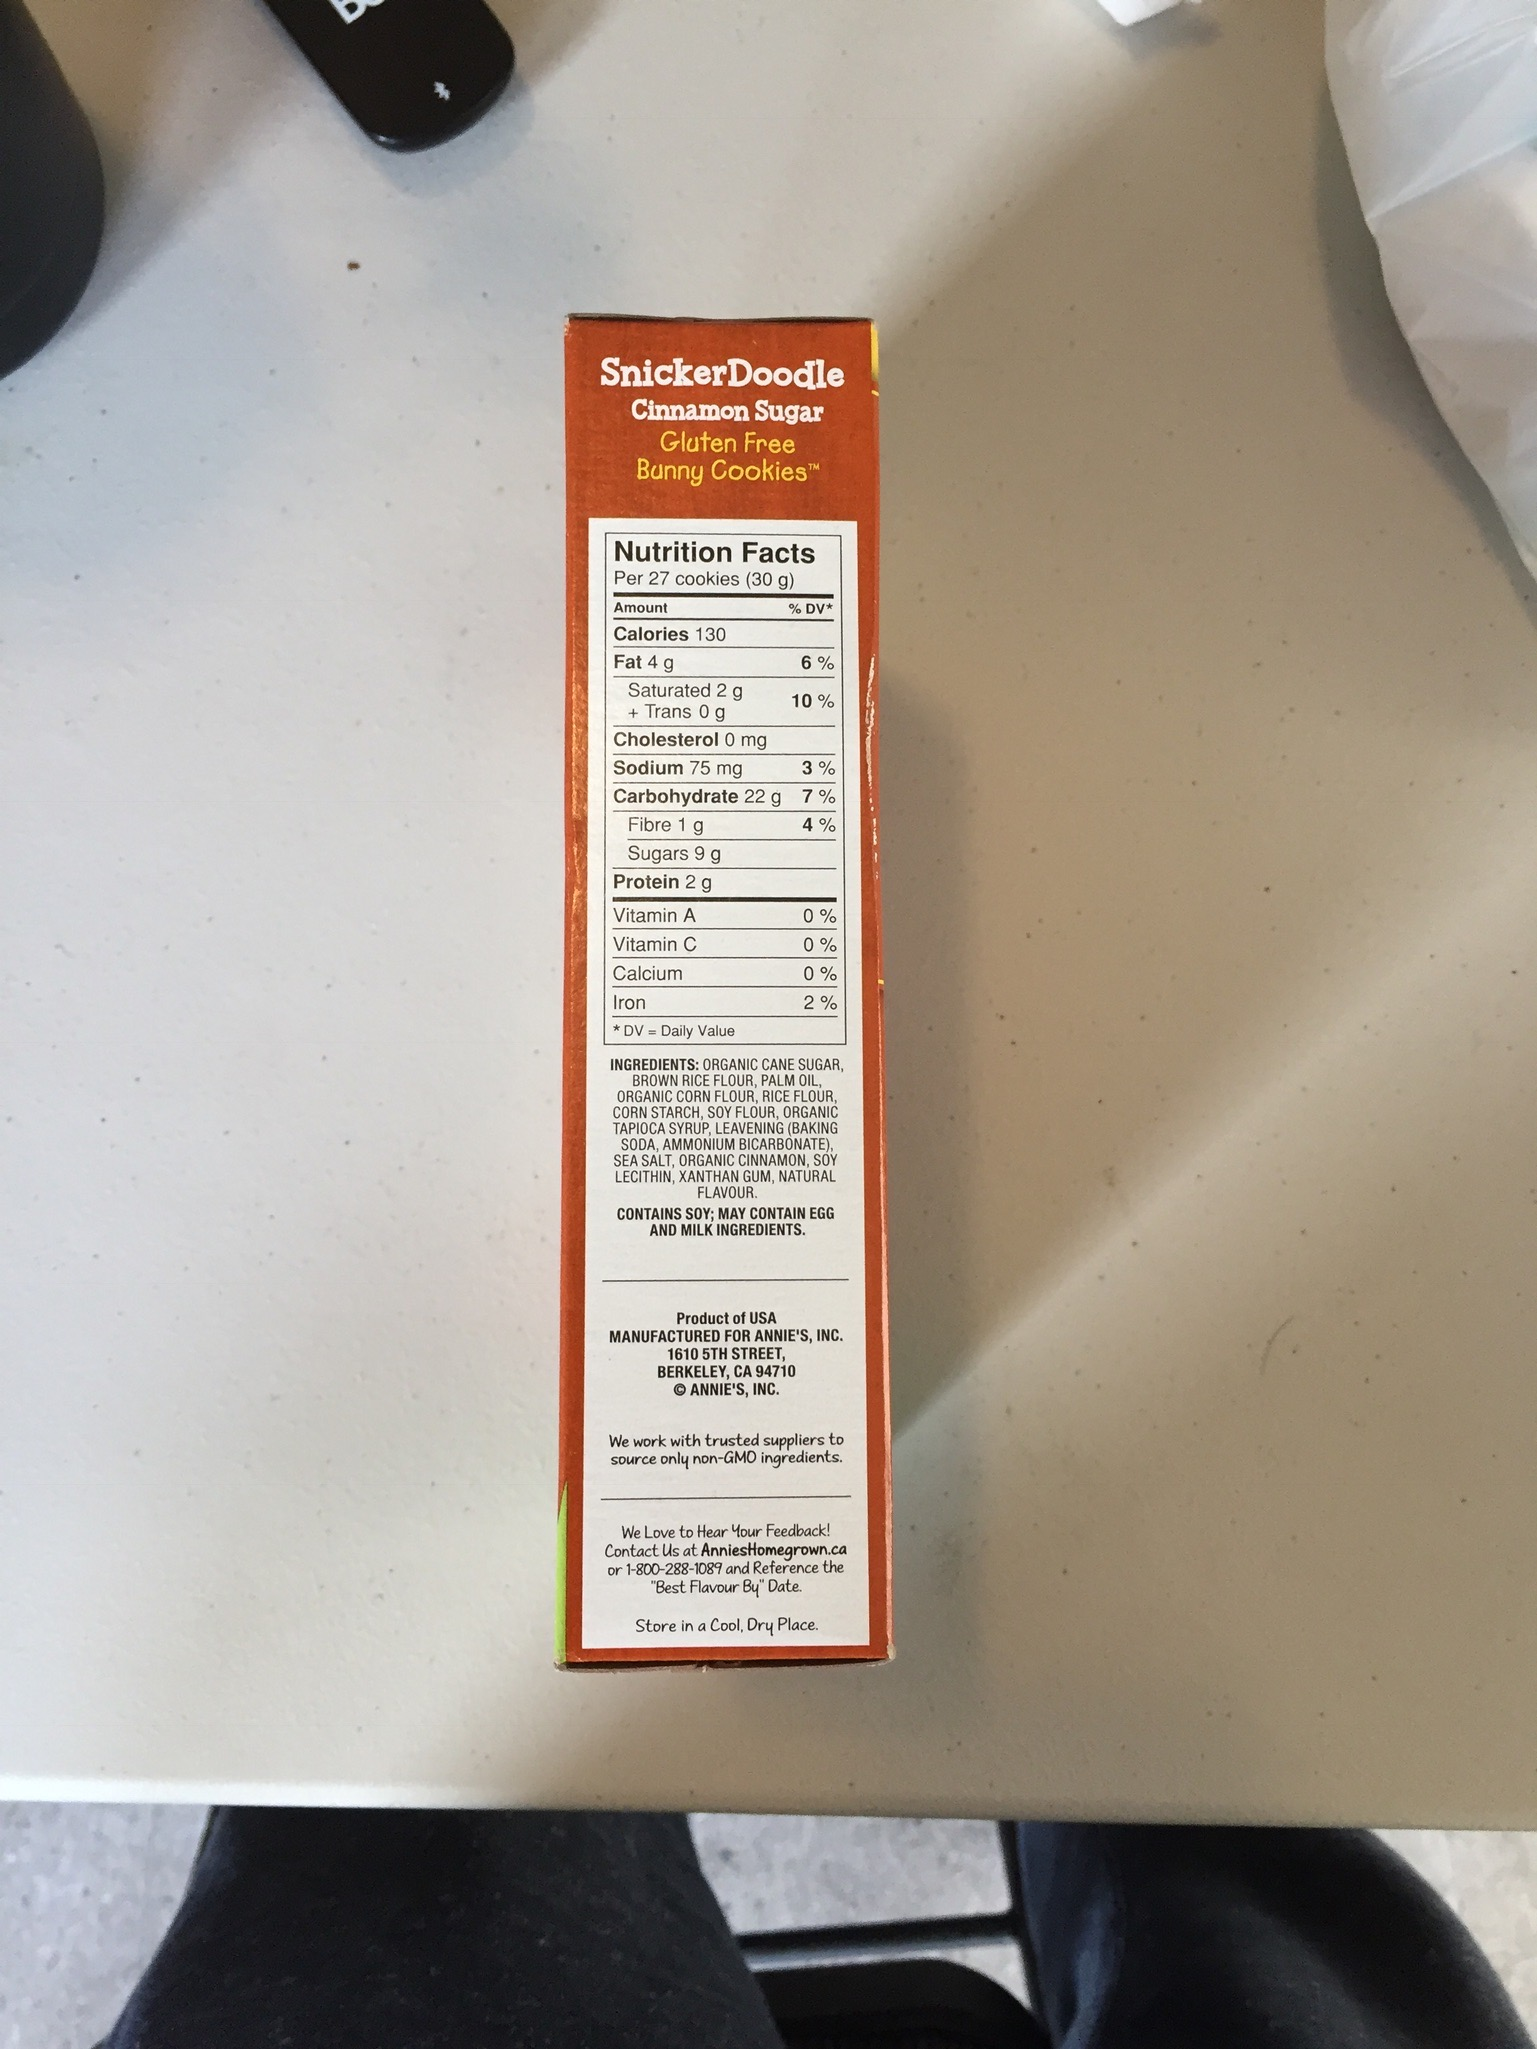annies_snickerdoodles_cinnamon_sugar: (573, 328, 877, 1661)
